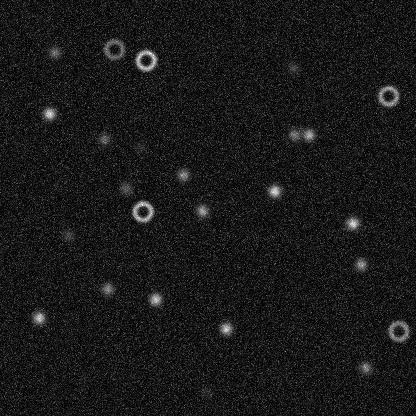Ring: (102, 37, 126, 61), (386, 319, 410, 343), (130, 199, 154, 223), (376, 83, 400, 107), (133, 48, 157, 72)
Spot: (217, 320, 233, 336), (266, 183, 282, 199), (344, 215, 360, 231), (199, 383, 215, 399), (99, 280, 115, 296), (357, 359, 373, 375), (117, 180, 133, 196), (285, 59, 301, 75), (46, 44, 62, 60), (300, 126, 316, 142), (194, 202, 210, 218), (352, 256, 368, 272), (60, 226, 76, 242), (30, 309, 46, 325), (41, 105, 57, 121), (95, 131, 111, 147), (286, 126, 302, 142), (175, 167, 191, 183), (147, 291, 163, 307), (132, 139, 148, 155)
